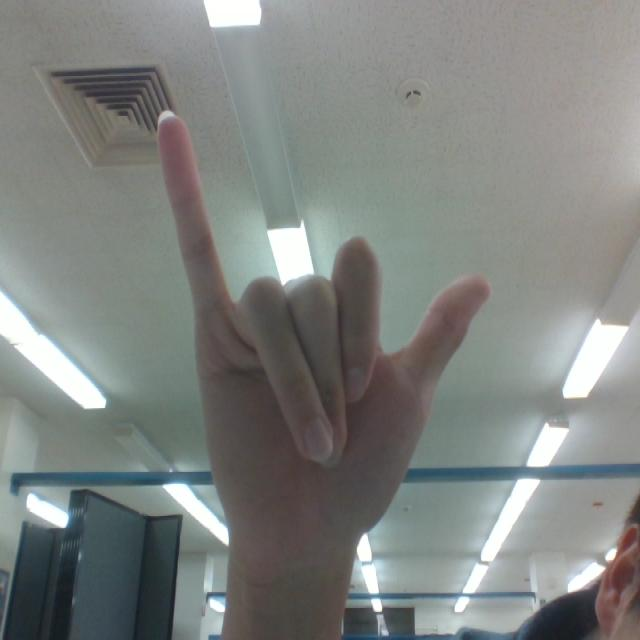Y: (134, 87, 529, 568)
